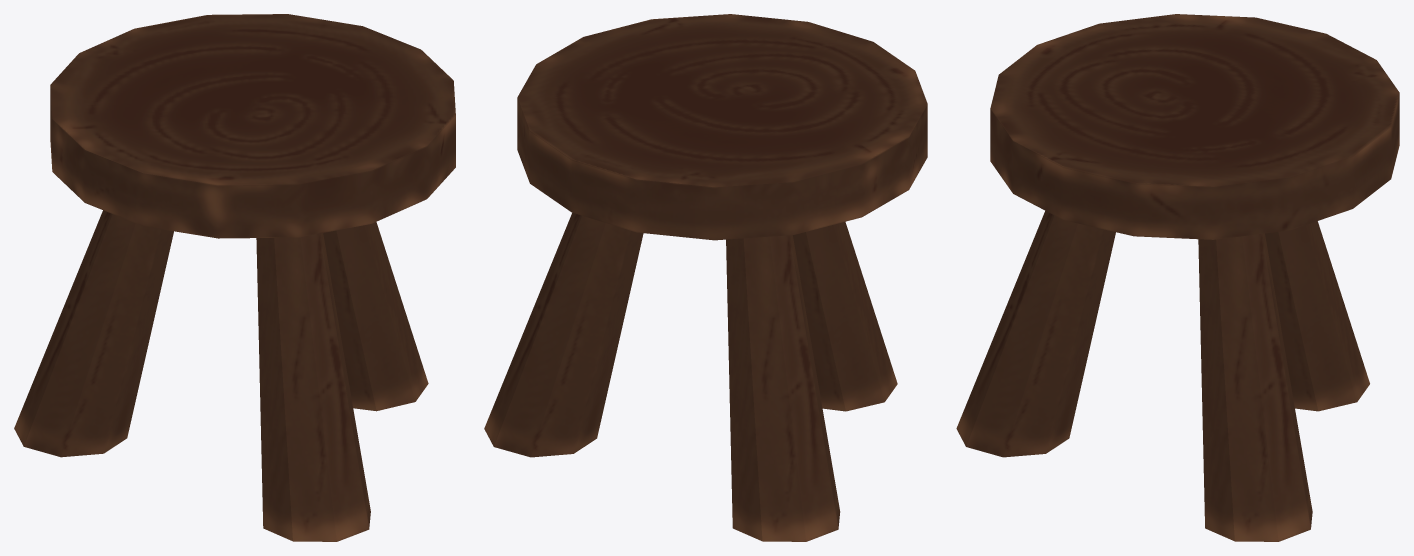
File: Stool.glb
3 views of the same model, side by side, from view 1: azimuth 30°, elevation 25°; view 2: azimuth 150°, elevation 25°; view 3: azimuth 270°, elevation 25° (orthographic).
Parts seen in each view (by area): view 1: Cylinder.012, Cylinder.015, Cylinder.013, Cylinder.014; view 2: Cylinder.012, Cylinder.013, Cylinder.014, Cylinder.015; view 3: Cylinder.012, Cylinder.014, Cylinder.015, Cylinder.013.
Part boxes in pixels (box(x1,y1,x2,y2)): Cylinder.012: box(50, 14, 455, 238); Cylinder.015: box(256, 233, 370, 541); Cylinder.013: box(14, 210, 173, 457); Cylinder.014: box(323, 222, 428, 411); Cylinder.012: box(517, 14, 927, 240); Cylinder.013: box(726, 235, 840, 541); Cylinder.014: box(484, 213, 643, 457); Cylinder.015: box(793, 221, 897, 411); Cylinder.012: box(990, 14, 1399, 239); Cylinder.014: box(1198, 233, 1312, 541); Cylinder.015: box(956, 211, 1115, 457); Cylinder.013: box(1265, 221, 1369, 411).
Bounding box in the file's own units: 0.3601 × 0.3195 × 0.3696.
Materials: 1 (1 with a texture image).
